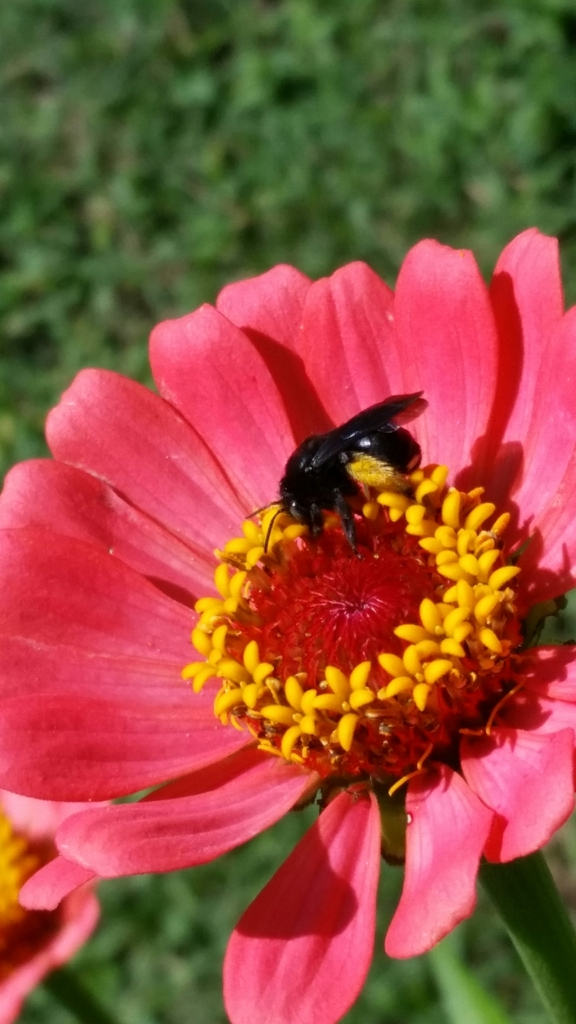not_bumblebee: (245, 390, 427, 560)
